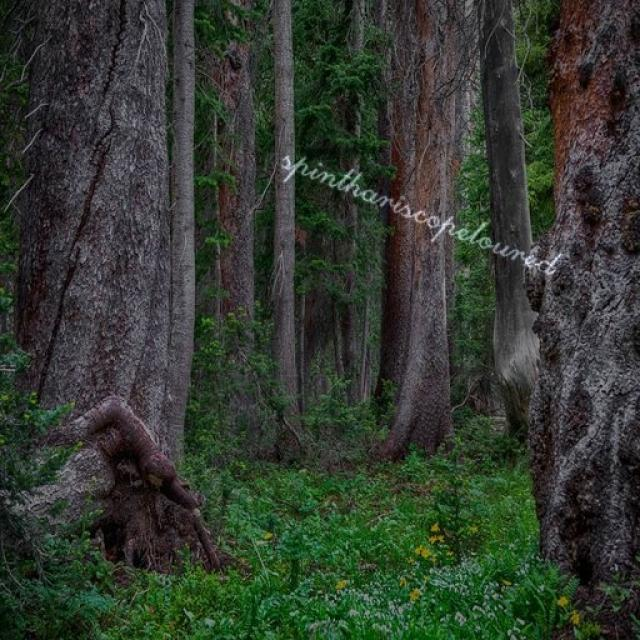watermark: (272, 139, 578, 282)
